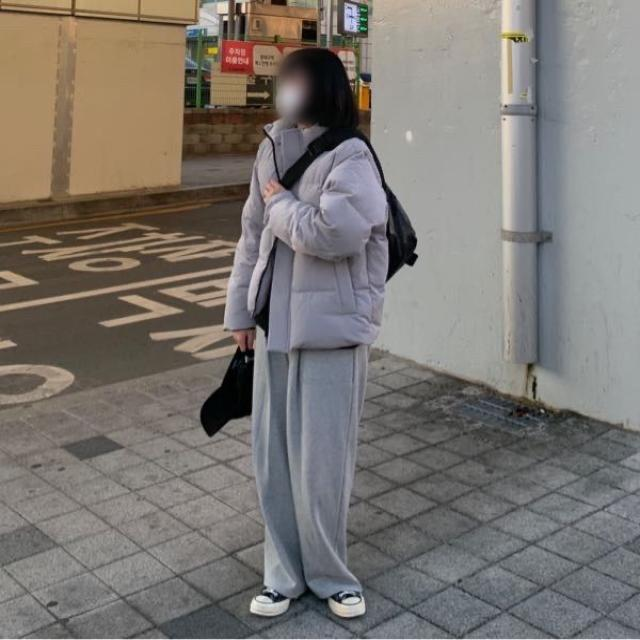padding: (225, 115, 388, 350)
trainingpants: (253, 321, 364, 598)
